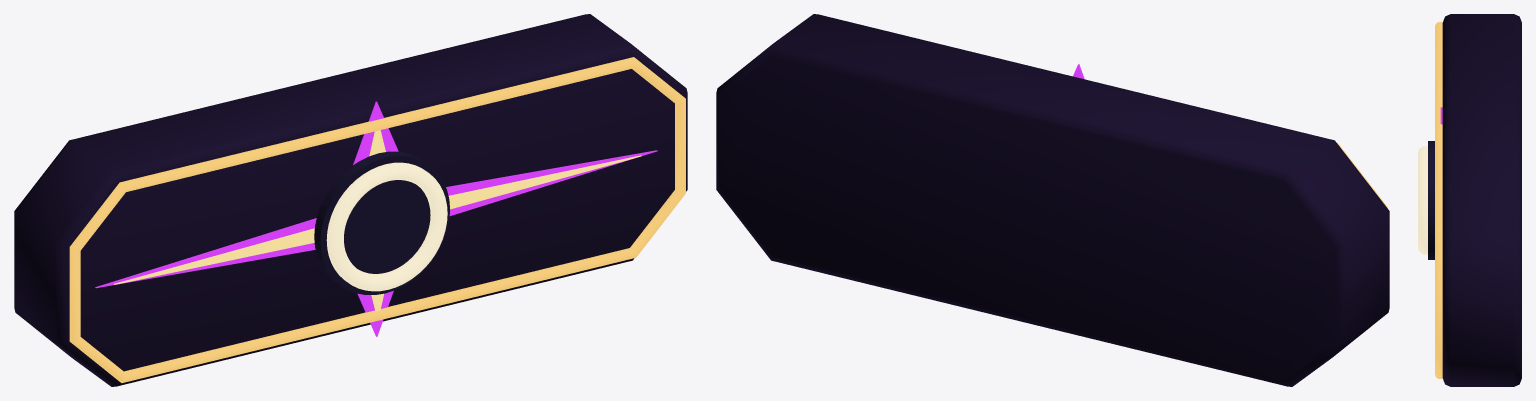
File: boss_neonnova.glb
3 views of the same model, side by side, from view 1: azimuth 30°, elevation 25°; view 2: azimuth 150°, elevation 25°; view 3: azimuth 270°, elevation 25° (orthographic). The views are drawn at different scales.
Parts seen in each view (by area): view 1: glb_boss_l30; view 2: glb_boss_l30; view 3: glb_boss_l30.
Boxes of the visible parts, <box> form: glb_boss_l30: <box>14,14,687,386</box>; glb_boss_l30: <box>716,14,1389,386</box>; glb_boss_l30: <box>1418,14,1521,386</box>.
Size of the model in its own units: 2.92 by 1.04 by 0.525.
